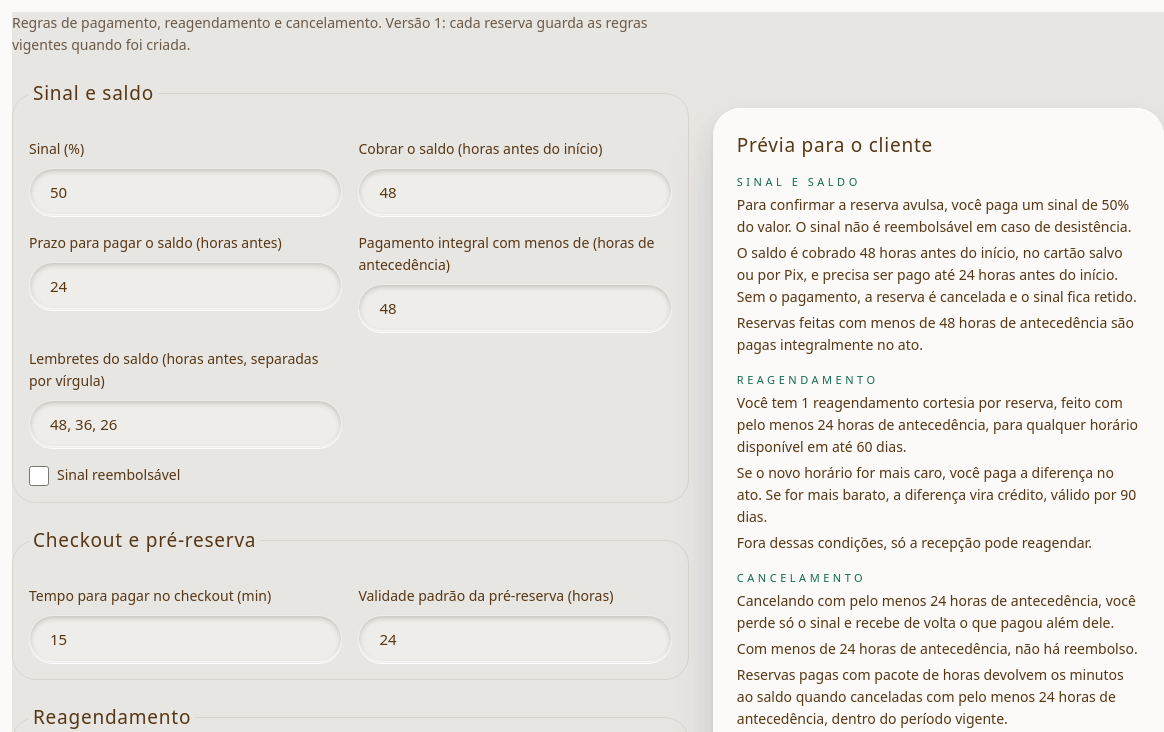
Test: PoliciesPanel (NUC-176) › updates the rendered preview to "sinal de 30%" while the deposit is edited
Expected: the element named "Prévia do texto da política" shows "sinal de 50% do valor", top-left (737, 195), bottom-right (1131, 236)
Step 1. Replace the text in the number field labelled "Sinal (%)" with "30" → (186, 192), box top-left (29, 168), bottom-right (342, 216)
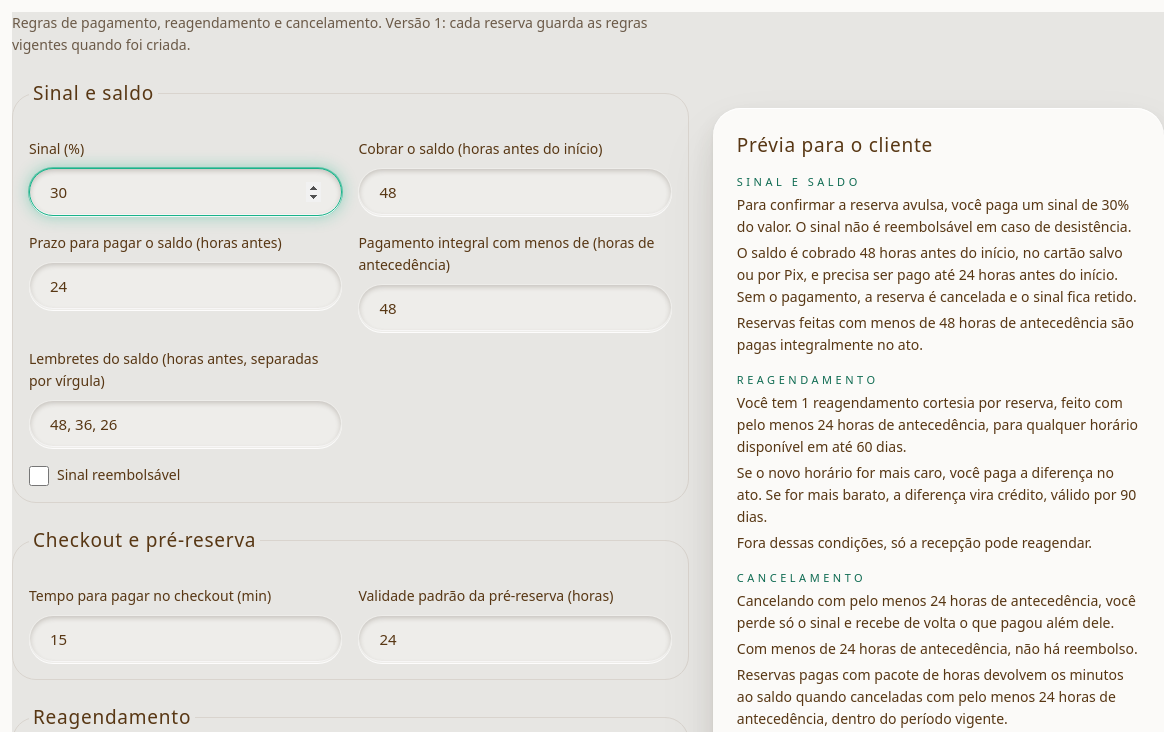
Expected: the heading "Sinal e saldo" is shown, top-left (737, 174), bottom-right (861, 189)
Now the element named "Prévia do texto da política" shows "sinal de 30% do valor", box top-left (737, 195), bottom-right (1131, 236)
